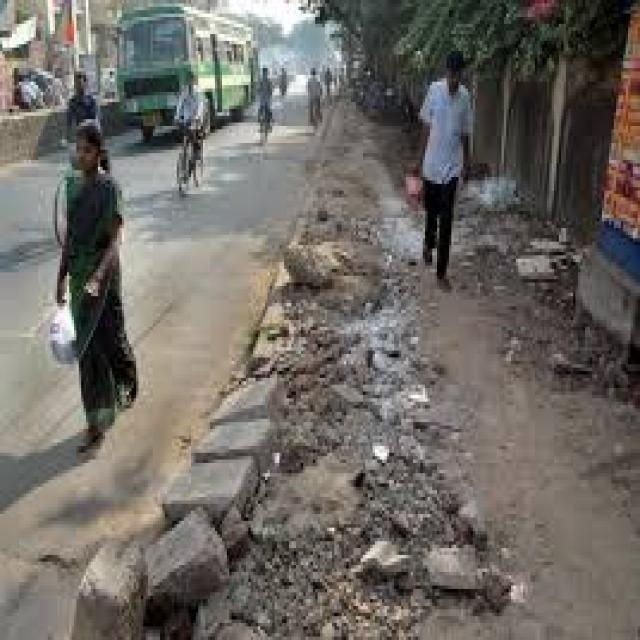person ahead at: (49, 121, 146, 458), (420, 47, 474, 285)
stones ahead at: (71, 370, 293, 640)
